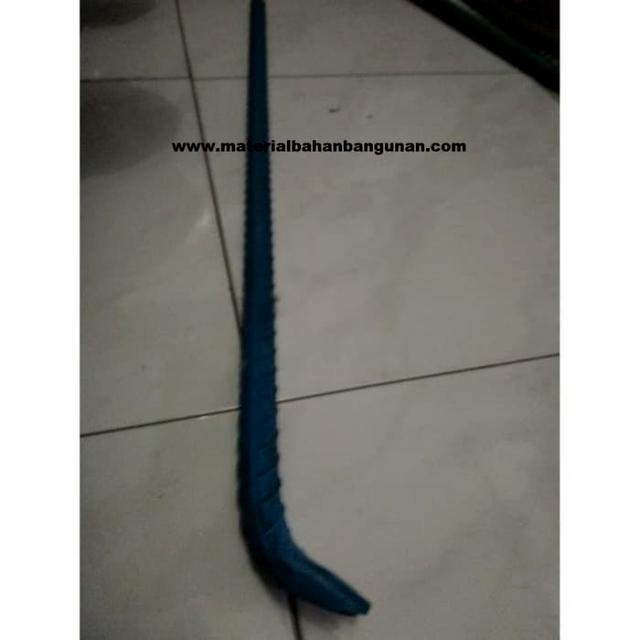crow bar: (233, 8, 387, 631)
